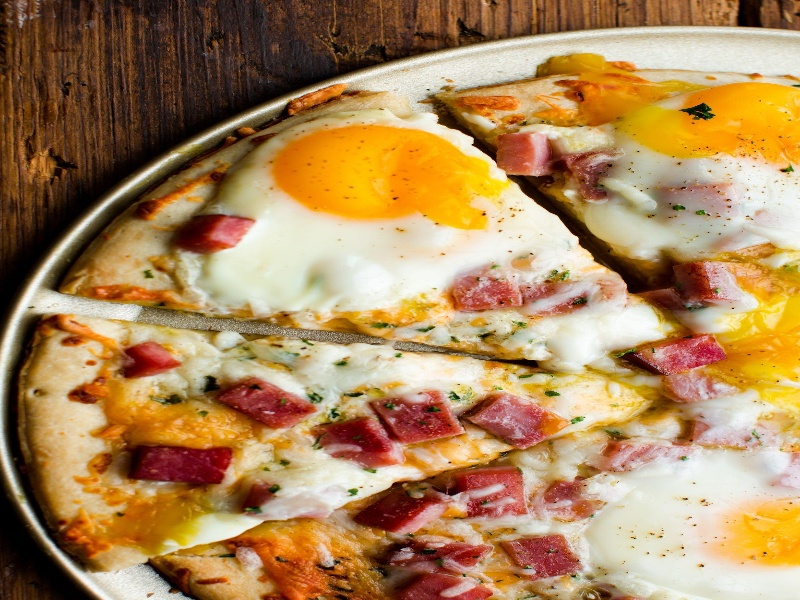oeuf: (266, 121, 514, 251), (623, 68, 800, 180), (692, 475, 800, 580)
